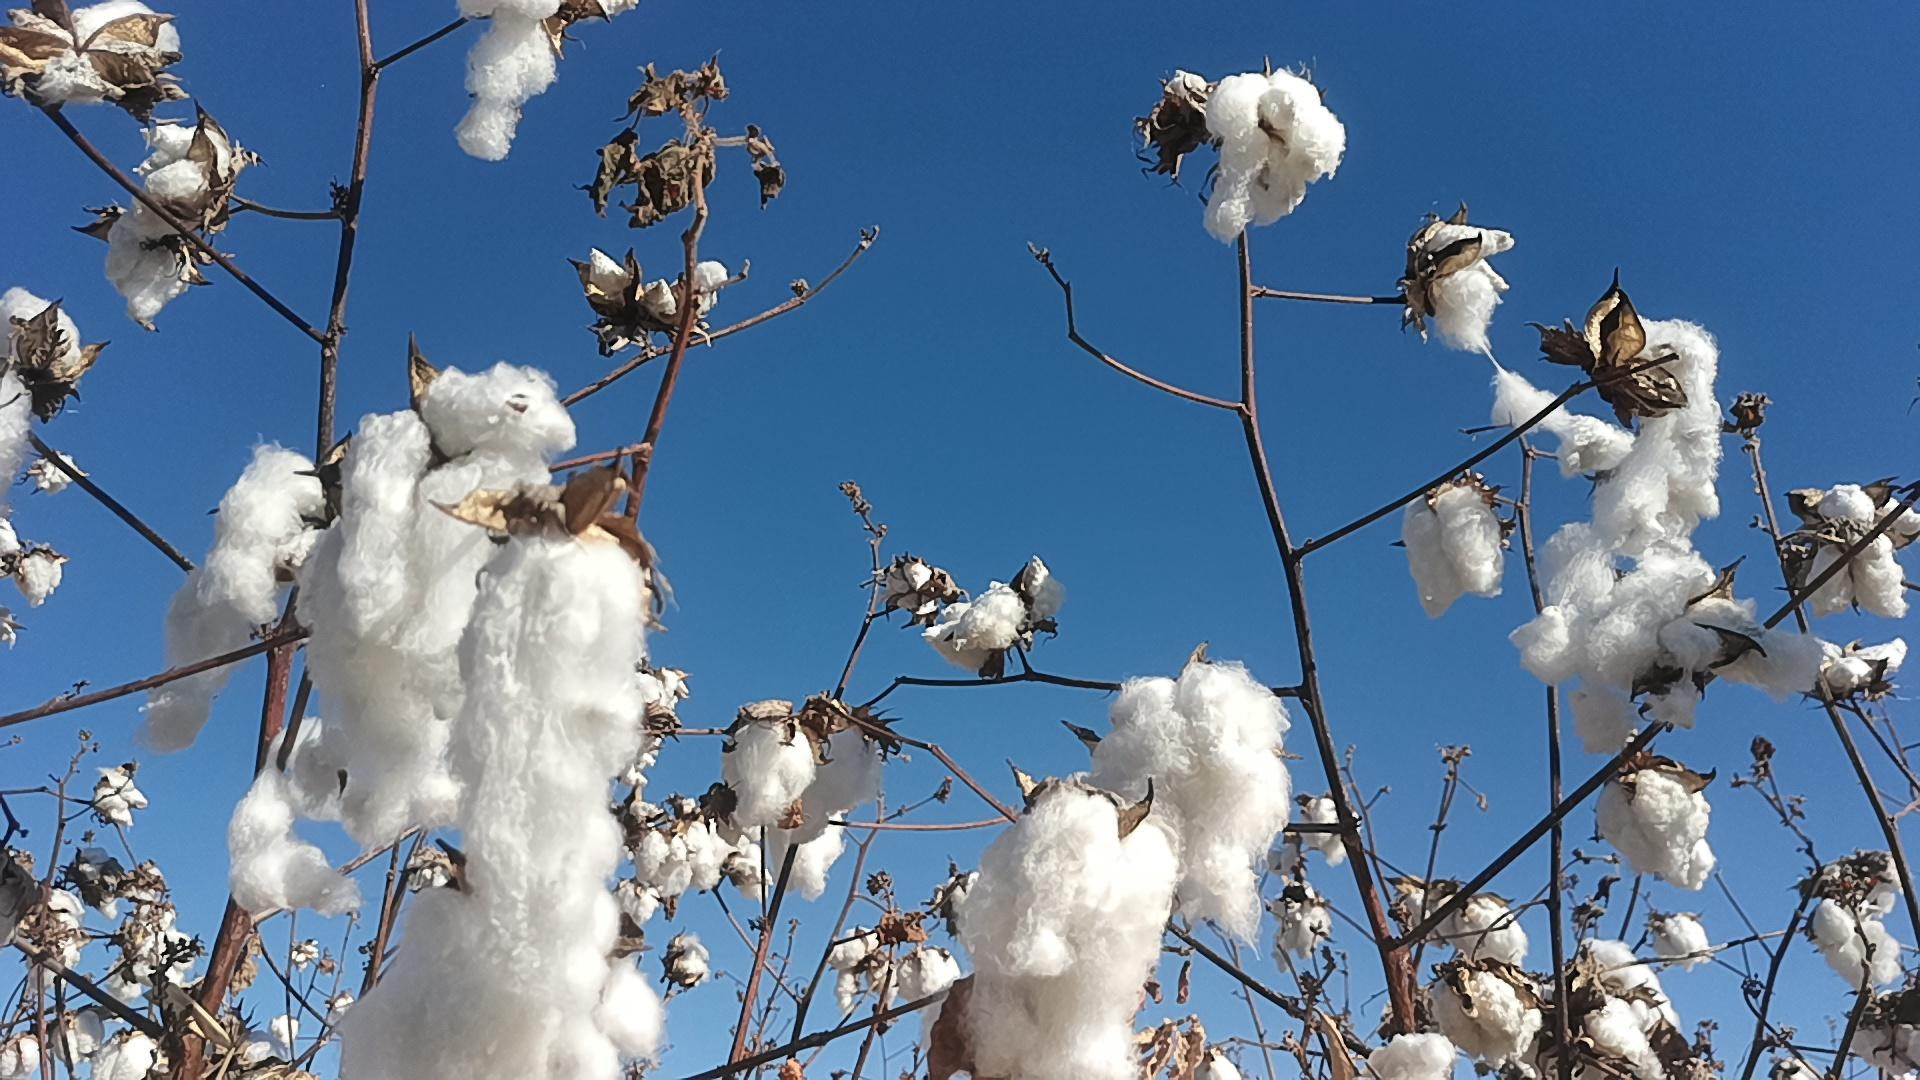cotton_ready: (303, 363, 578, 853), (448, 530, 647, 990), (961, 790, 1178, 1080), (136, 438, 335, 750), (1100, 666, 1295, 943), (228, 715, 472, 913), (340, 956, 622, 1080), (1507, 549, 1721, 695), (454, 0, 640, 164), (402, 878, 550, 1080), (1600, 316, 1718, 516), (1205, 71, 1348, 236), (1534, 940, 1680, 1080), (1596, 761, 1716, 890), (16, 0, 178, 95), (1490, 378, 1634, 485), (1805, 488, 1920, 618), (109, 123, 237, 239), (924, 558, 1058, 667), (1406, 483, 1509, 616), (782, 717, 887, 839), (1418, 227, 1513, 356), (1809, 868, 1898, 989), (1431, 973, 1544, 1063), (583, 253, 725, 323), (724, 716, 818, 819), (0, 291, 83, 404), (102, 215, 195, 313), (1716, 621, 1828, 695), (771, 800, 845, 906), (678, 808, 740, 898), (1809, 638, 1903, 692), (0, 368, 36, 497), (1364, 1035, 1452, 1080)
